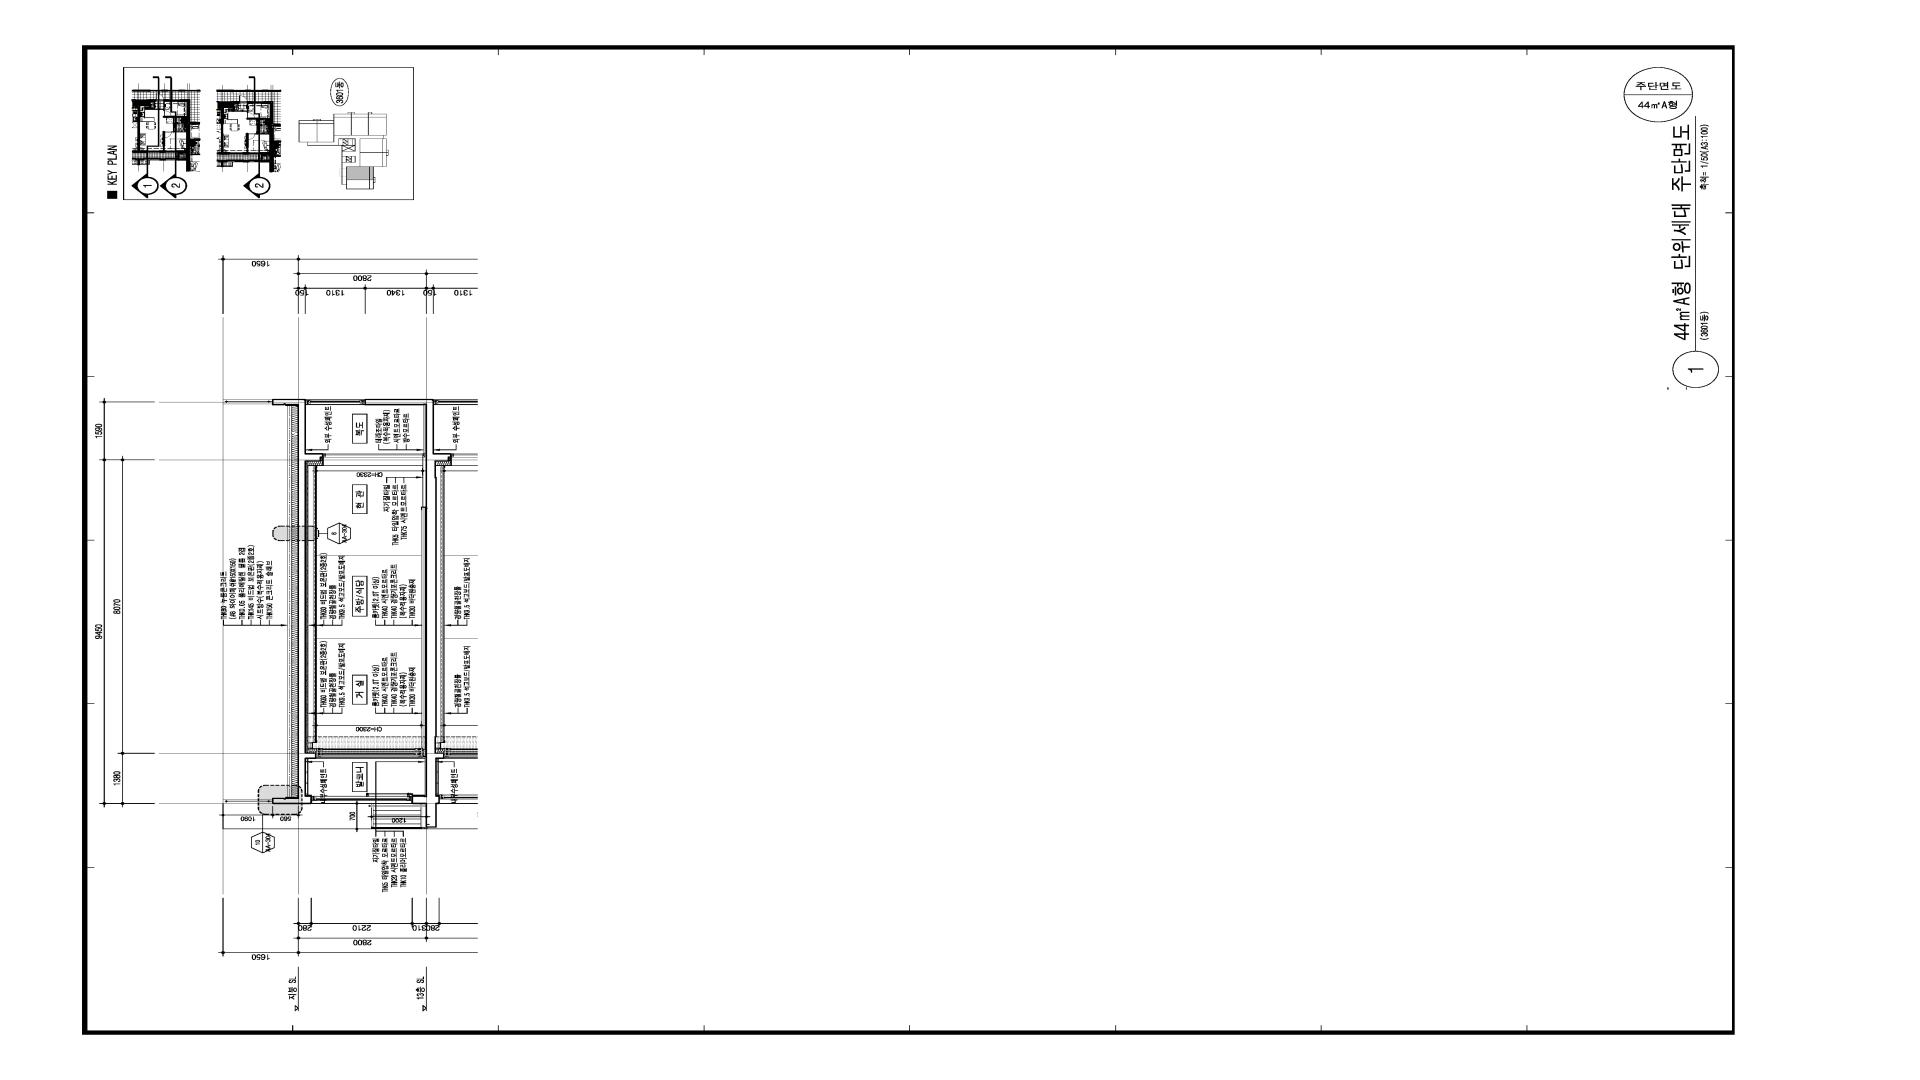door: (316, 454, 425, 472)
wall: (364, 398, 436, 804), (297, 400, 323, 804), (422, 749, 426, 757)
window: (316, 748, 426, 758), (311, 795, 411, 804), (306, 400, 364, 405)
